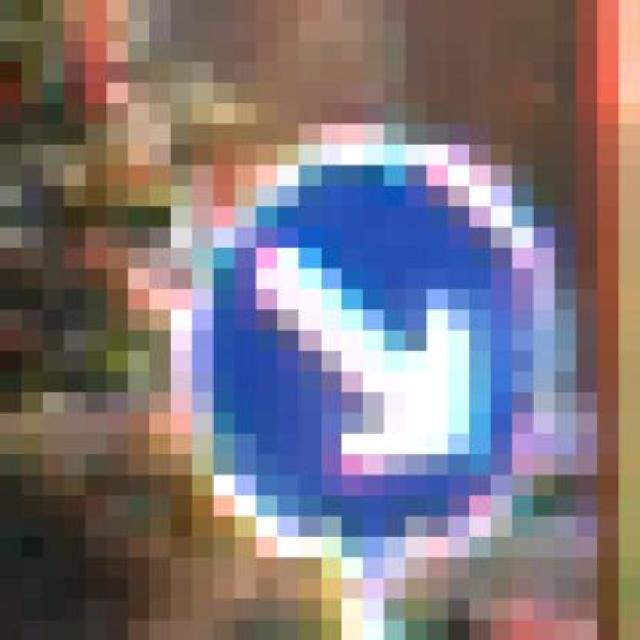Keep-Right: (149, 82, 597, 578)
